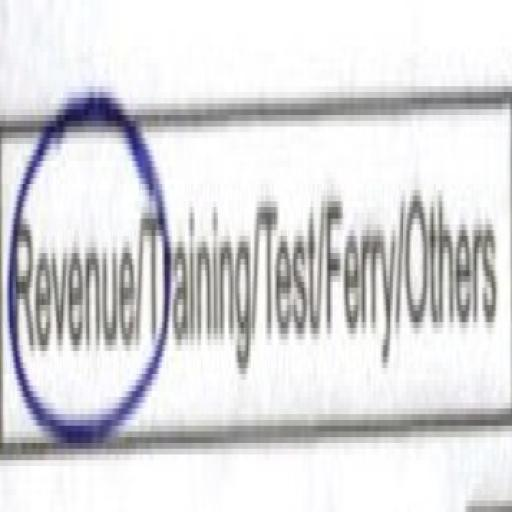check: (0, 23, 139, 512)
